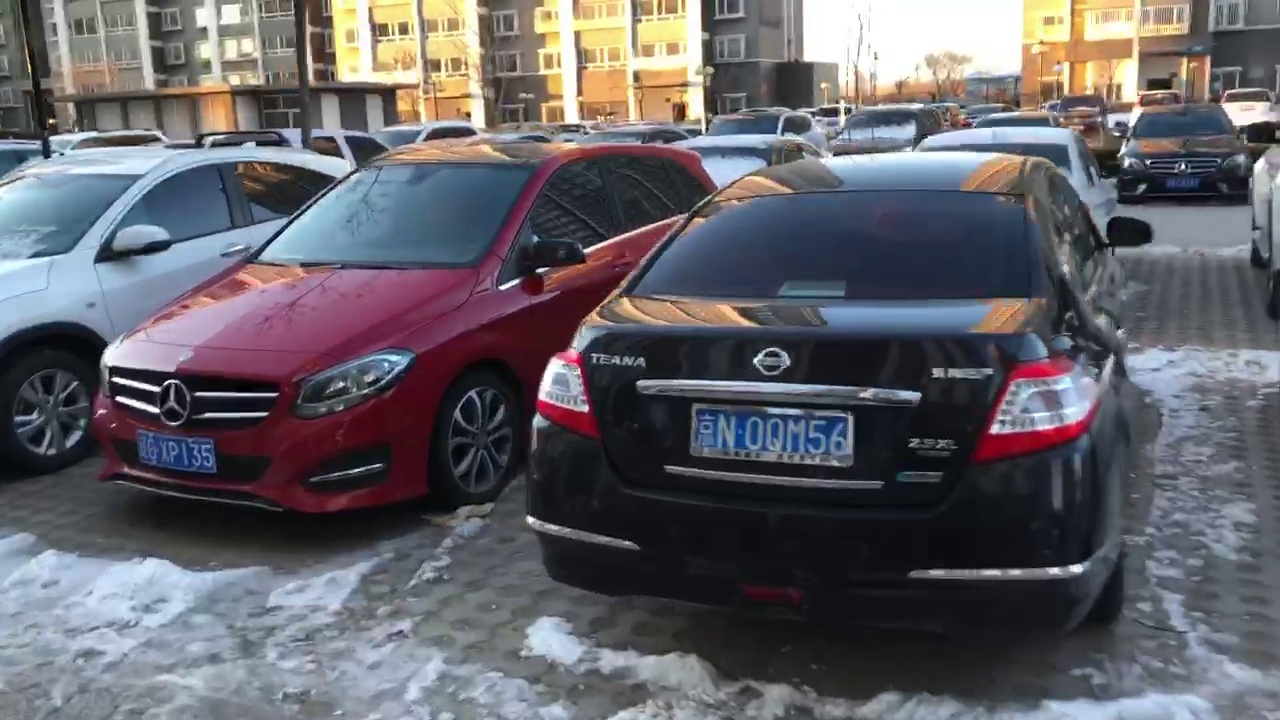plate: (680, 408, 861, 463), (135, 434, 226, 473)
